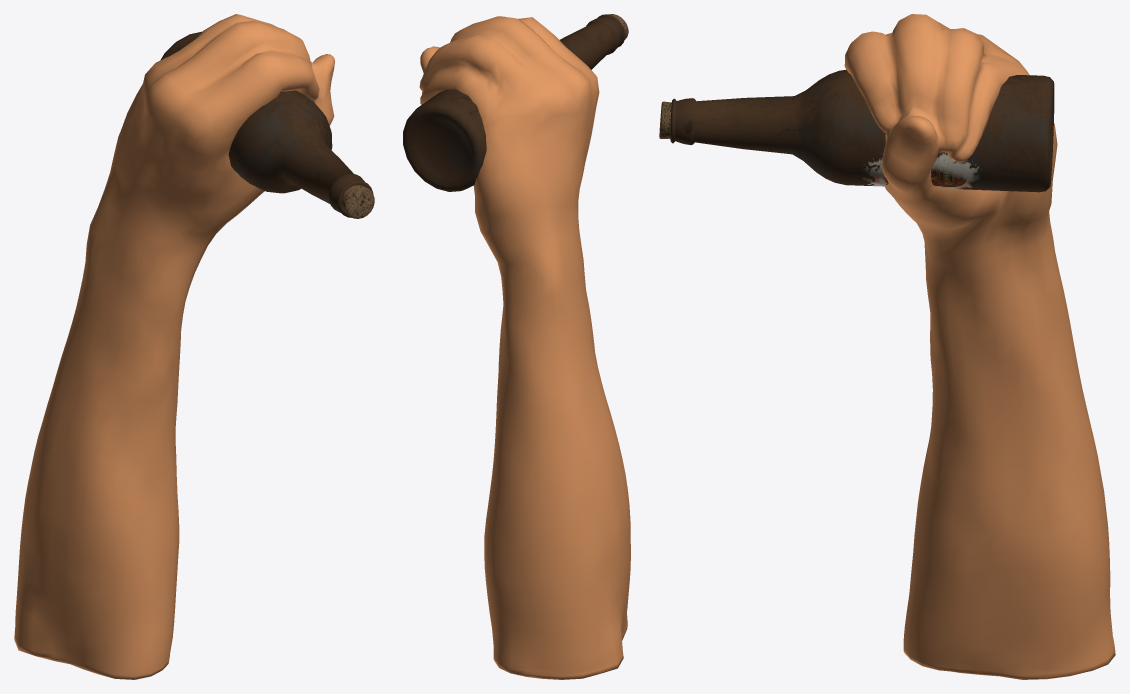
Rendered from left.fbx.
3 views of the same model, side by side, from view 1: azimuth 30°, elevation 25°; view 2: azimuth 150°, elevation 25°; view 3: azimuth 270°, elevation 25° (orthographic). The views are drawn at different scales.
Visible parts, largest first — view 1: model_26; view 2: model_26; view 3: model_26.
Boxes of the visible parts, x1=… form: model_26: x1=14, y1=14, x2=374, y2=679; model_26: x1=403, y1=14, x2=630, y2=679; model_26: x1=659, y1=14, x2=1115, y2=679.
Bounding box in the file's own units: 17.42 × 39.36 × 23.57.
